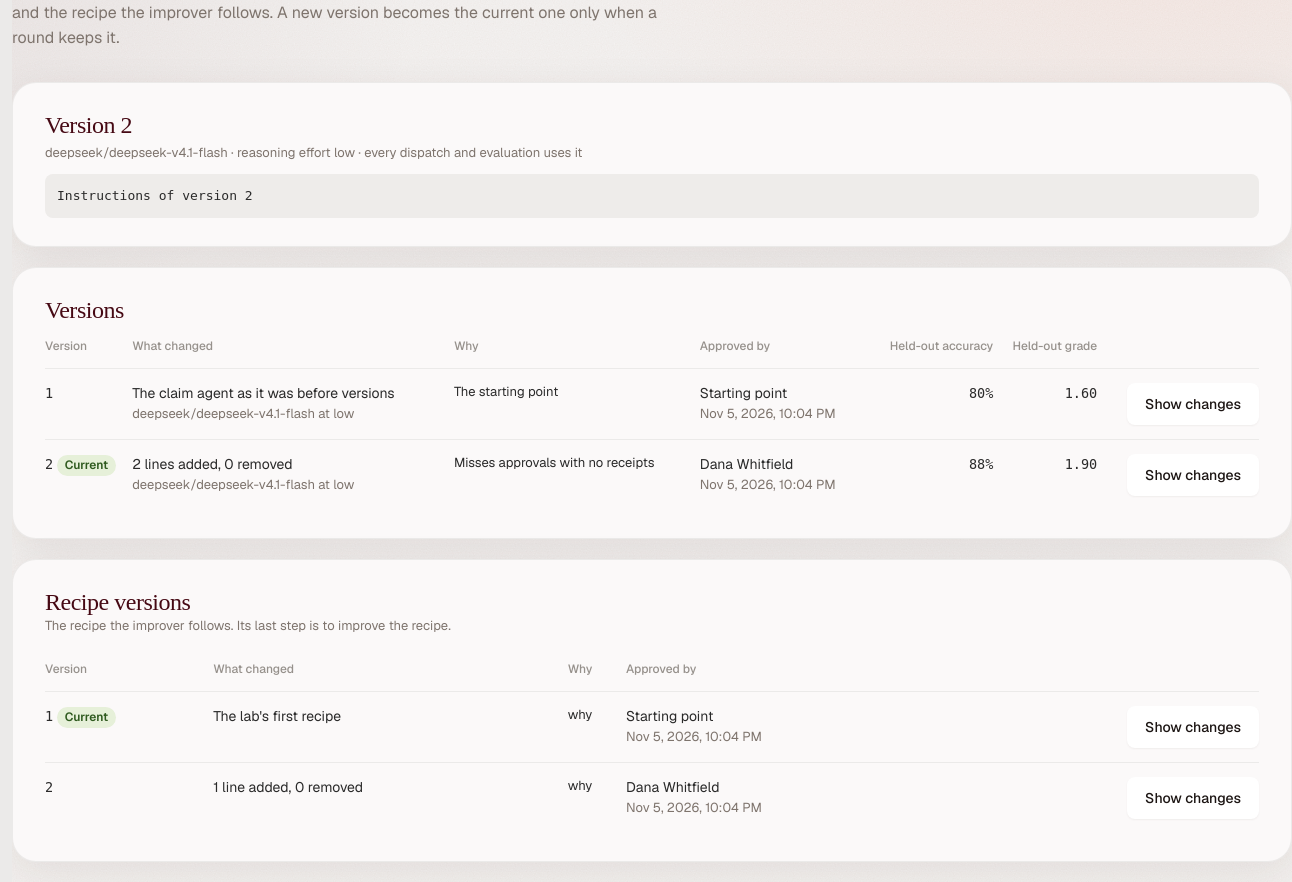
Test case: Configuration › lists the recipe versions, and opens their changes in the same view
This screenshot has width=1292, height=882.
(page scrolled)
Click the button with aria-label "Show changes in recipe 2" at point(1193, 798), box top-left (1127, 777), bottom-right (1259, 819)
(page scrolled)
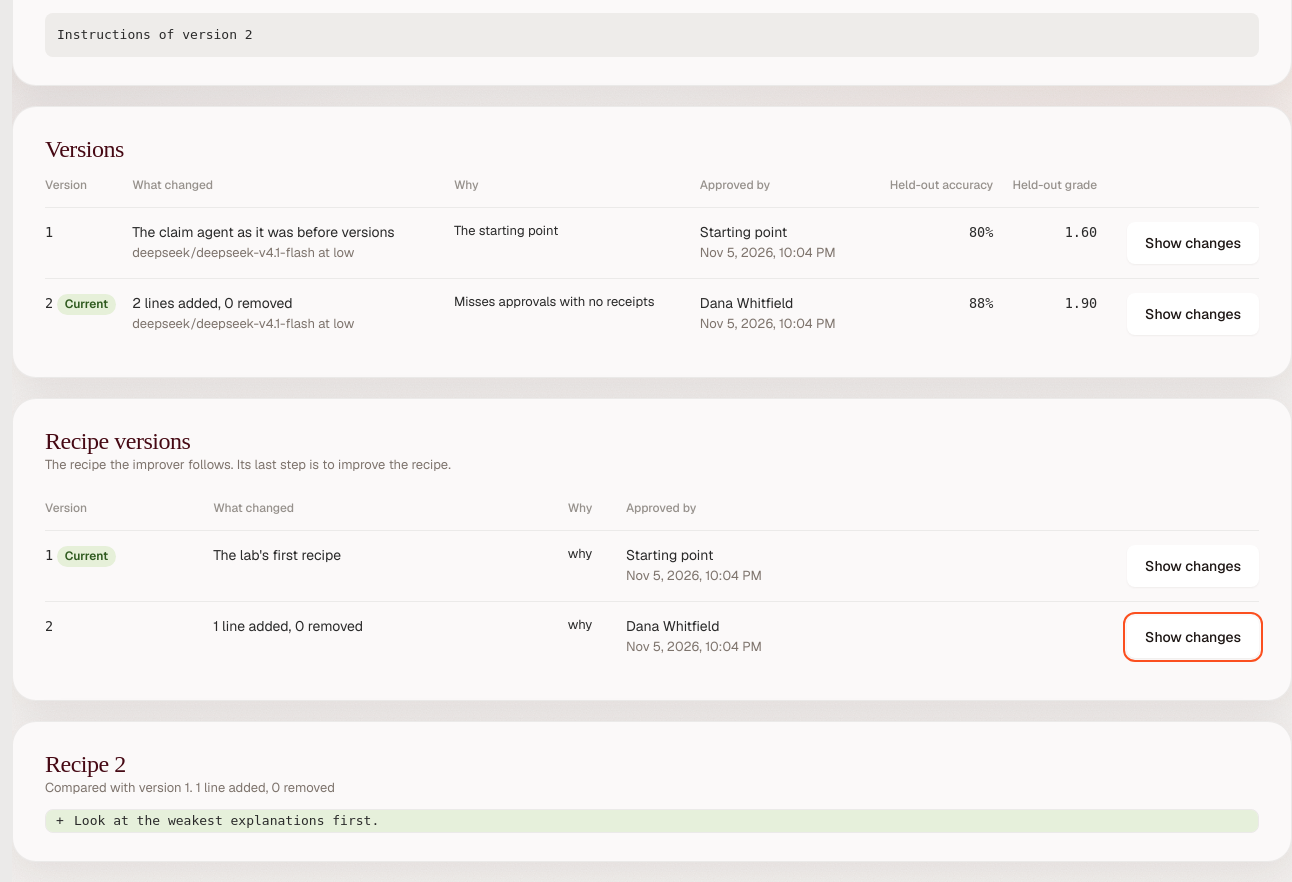
Check: the text "Look at the weakest explanations first." is shown, box top-left (74, 813), bottom-right (379, 828)
